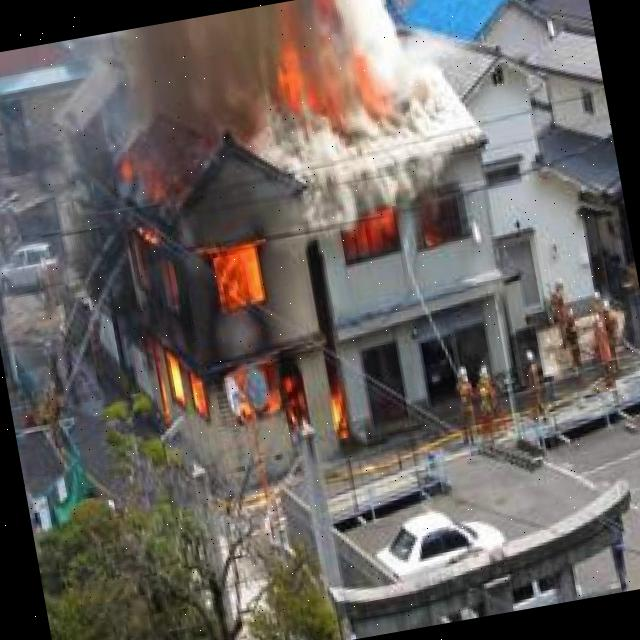fire: (97, 116, 316, 456), (261, 0, 393, 126), (337, 203, 411, 261)
